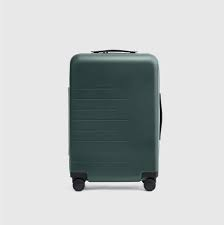suitcase: (65, 48, 164, 192)
